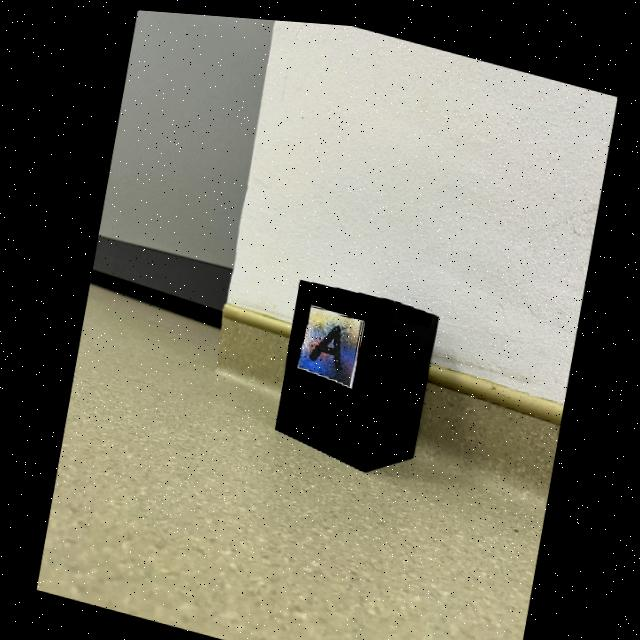A: (308, 321, 340, 366)
